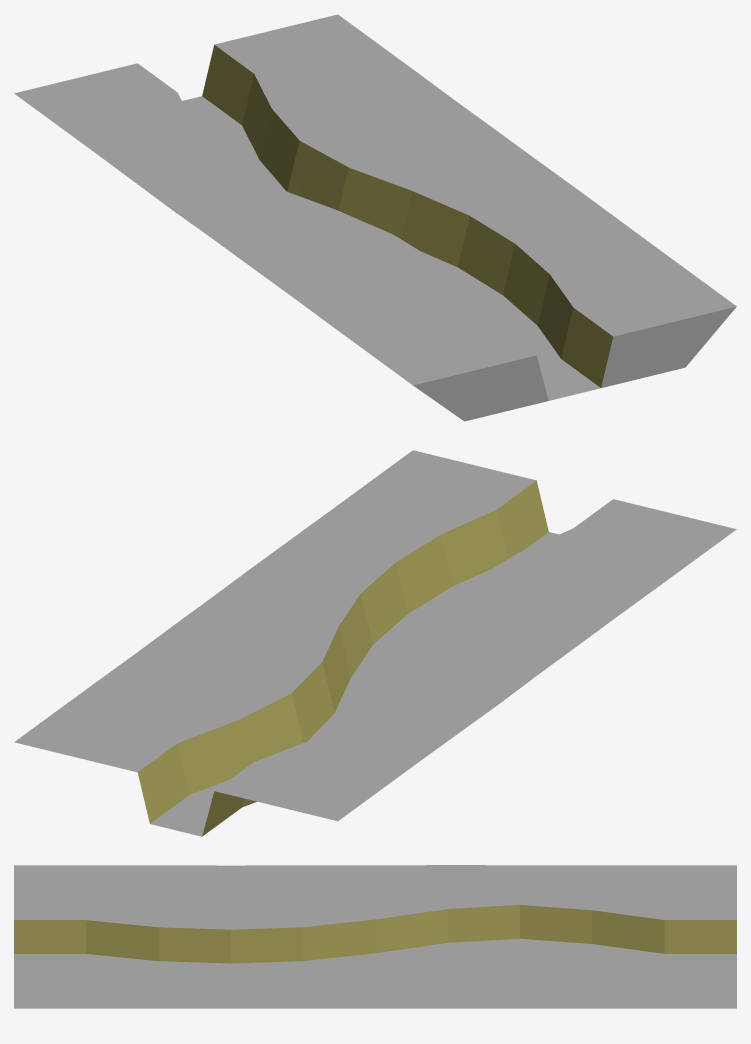
File: ravine_zigzag.fbx
The picture shows the model from 3 angles, top to bottom: view 1: azimuth 30°, elevation 25°; view 2: azimuth 150°, elevation 25°; view 3: azimuth 270°, elevation 25°; orthographic projection. The views are drawn at different scales.
Parts seen in each view (by area): view 1: pPlane1; view 2: pPlane1; view 3: pPlane1.
Part boxes in pixels (x1,y1,x2,y2): pPlane1: [14, 14, 736, 421]; pPlane1: [14, 450, 736, 836]; pPlane1: [14, 865, 736, 1008].
Bounding box in the file's own units: 10586 × 1512 × 22500.
